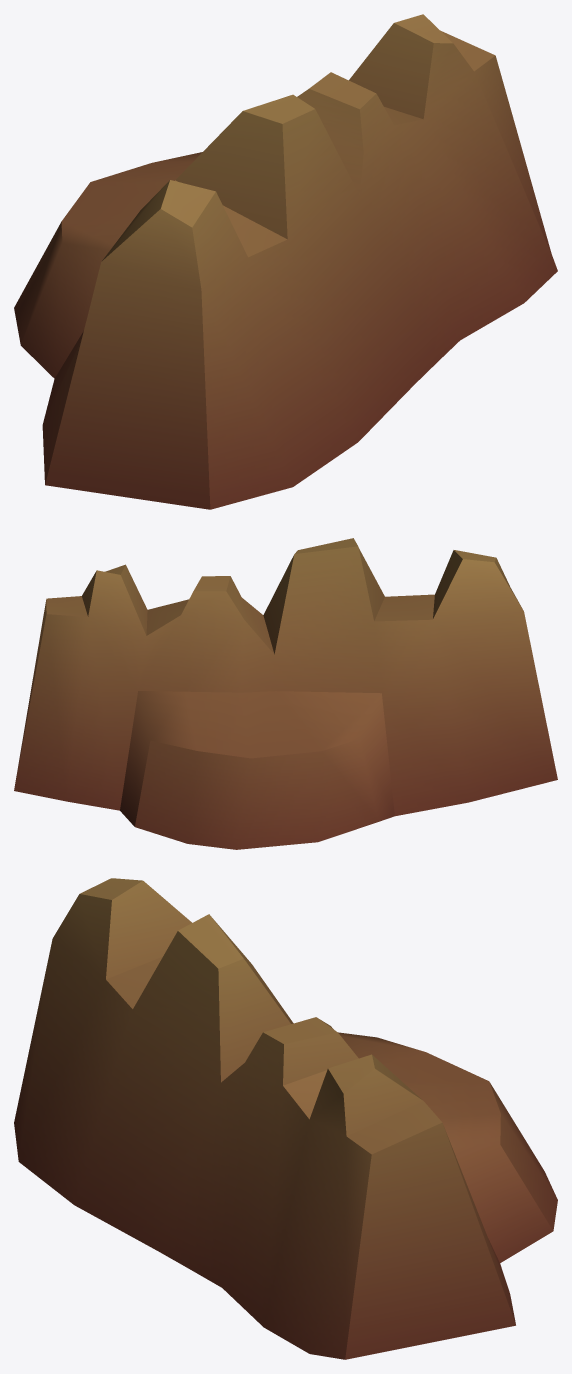
File: Mountain_medium.012.fbx
3 renders of one model, top to bottom at view 1: azimuth 30°, elevation 25°; view 2: azimuth 150°, elevation 25°; view 3: azimuth 270°, elevation 25°, orthographic. The views are drawn at different scales.
Parts seen in each view (by area): view 1: Mountain_medium.012; view 2: Mountain_medium.012; view 3: Mountain_medium.012.
Part boxes in pixels (bbox=[...]): Mountain_medium.012: bbox=[14, 14, 557, 509]; Mountain_medium.012: bbox=[14, 538, 557, 849]; Mountain_medium.012: bbox=[14, 878, 557, 1359].
Bounding box in the file's own units: 71.67 × 32.12 × 58.39.
